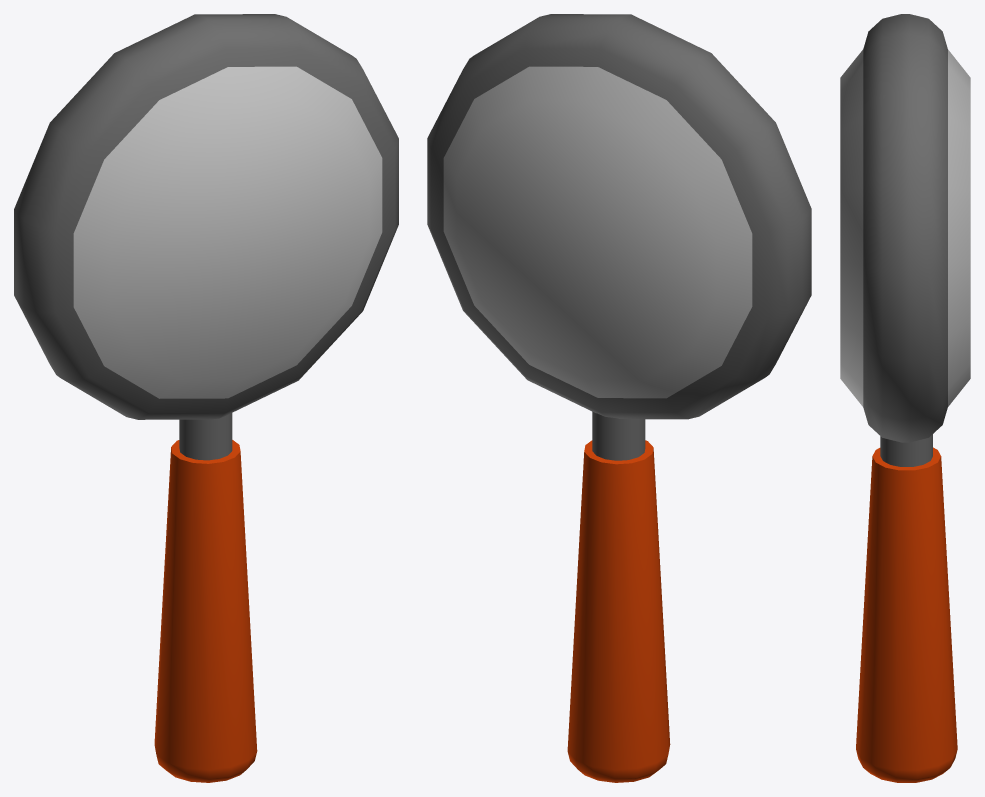
File: Magnifying Glass_3.fbx
3 views of the same model, side by side, from view 1: azimuth 30°, elevation 25°; view 2: azimuth 150°, elevation 25°; view 3: azimuth 270°, elevation 25° (orthographic). The views are drawn at different scales.
Visible parts, largest first — view 1: Magnifying Glass_3; view 2: Magnifying Glass_3; view 3: Magnifying Glass_3.
Part boxes in pixels (bbox=[...]): Magnifying Glass_3: bbox=[14, 14, 398, 782]; Magnifying Glass_3: bbox=[427, 14, 811, 782]; Magnifying Glass_3: bbox=[840, 14, 970, 782].
Size of the model in its own units: 0.1281 by 0.2487 by 0.0399.
